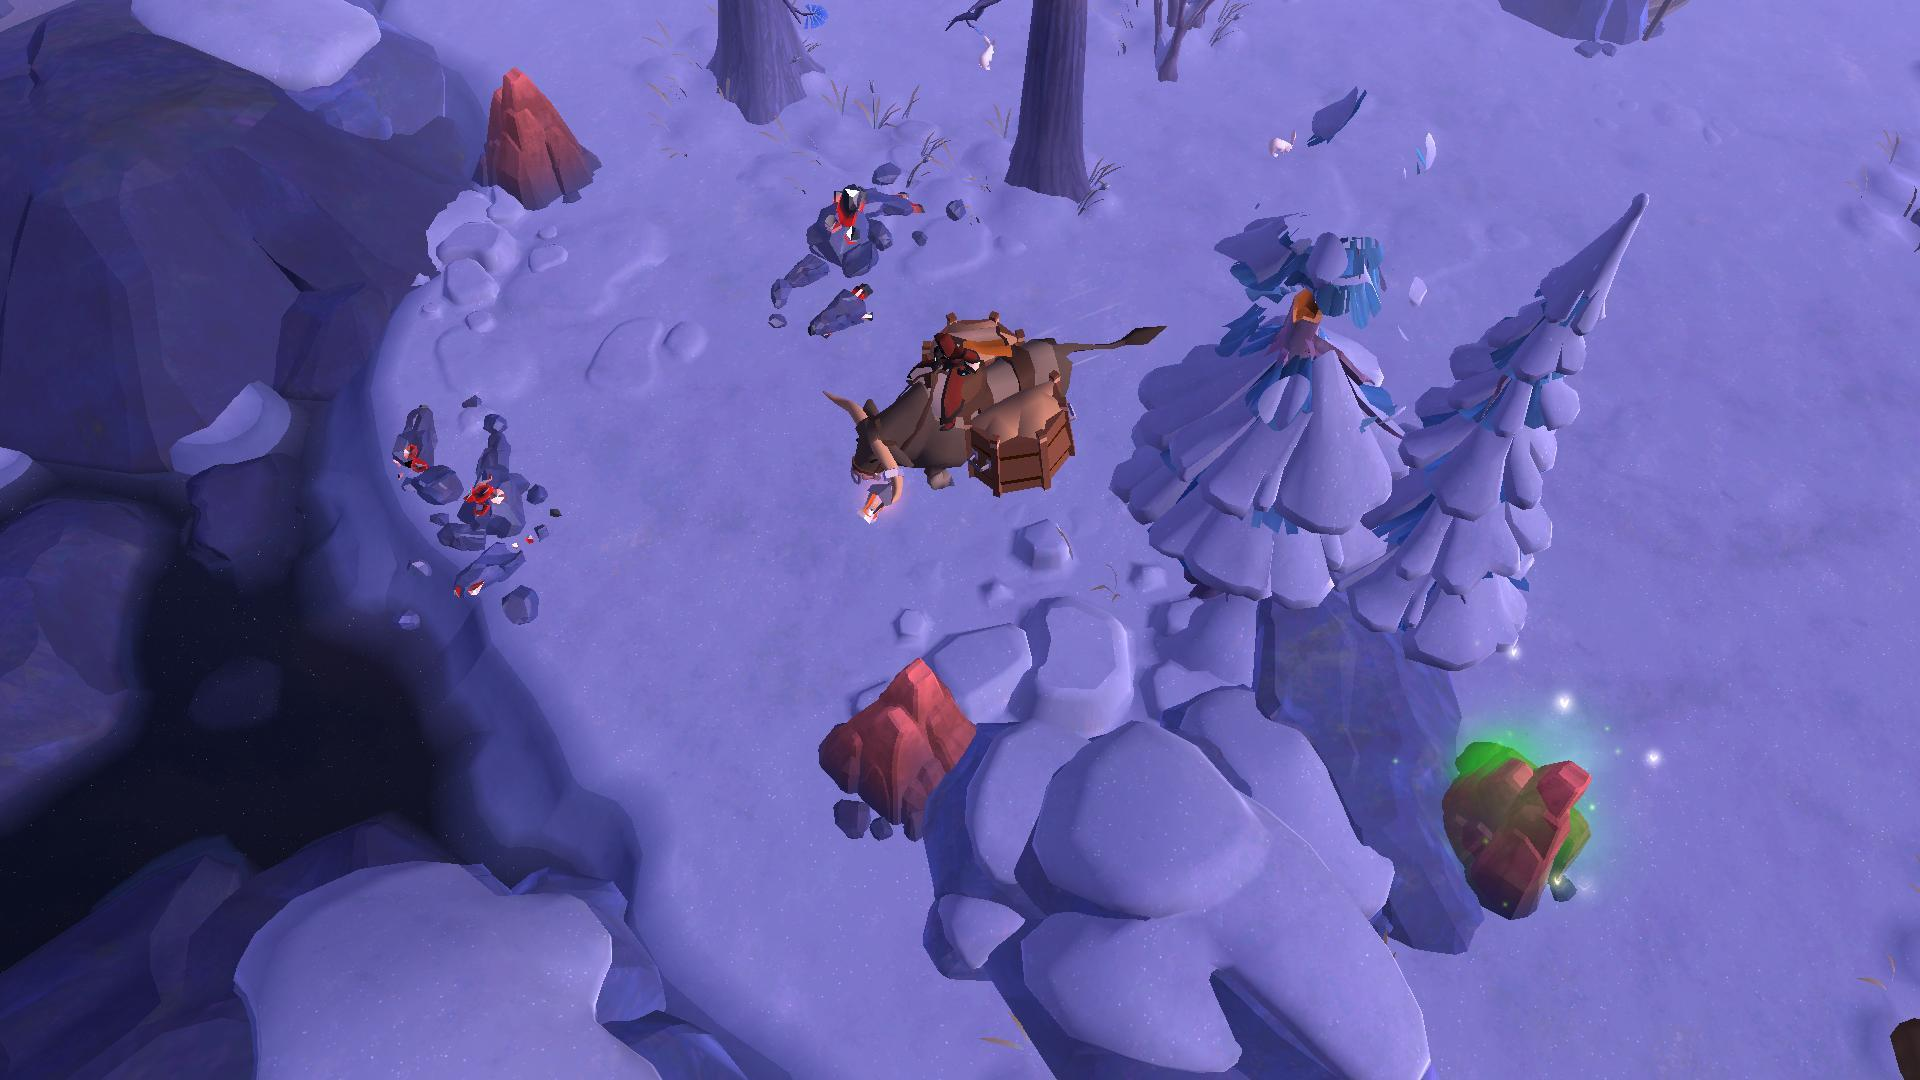rock_t5: (802, 645, 976, 831), (1435, 727, 1593, 924), (473, 61, 600, 210)
